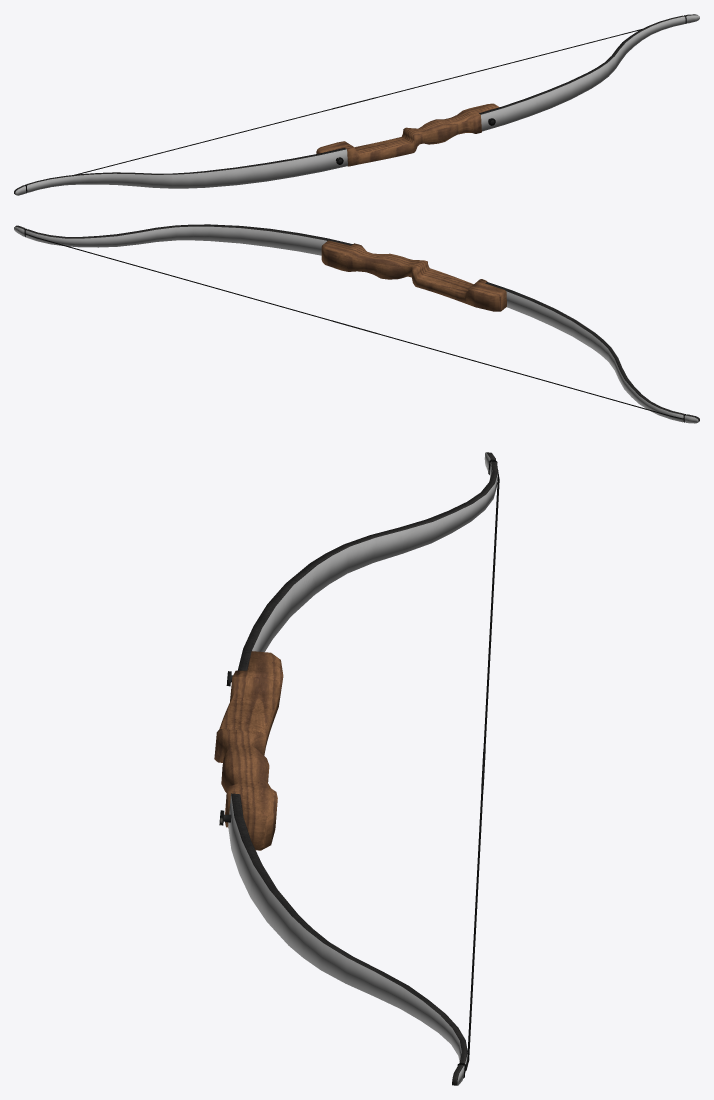
File: bow.glb
3 views of the same model, one above another, from view 1: azimuth 30°, elevation 25°; view 2: azimuth 150°, elevation 25°; view 3: azimuth 270°, elevation 25° (orthographic). The views are drawn at different scales.
Visible parts, largest first — view 1: bow_world; view 2: bow_world; view 3: bow_world.
Part boxes in pixels (<box>): bow_world: <box>14,14,699,195</box>; bow_world: <box>14,224,699,423</box>; bow_world: <box>214,452,499,1085</box>.
Bounding box in the file's own units: 1.58 × 0.0711 × 0.2881.
Materials: 1 (1 with a texture image).
